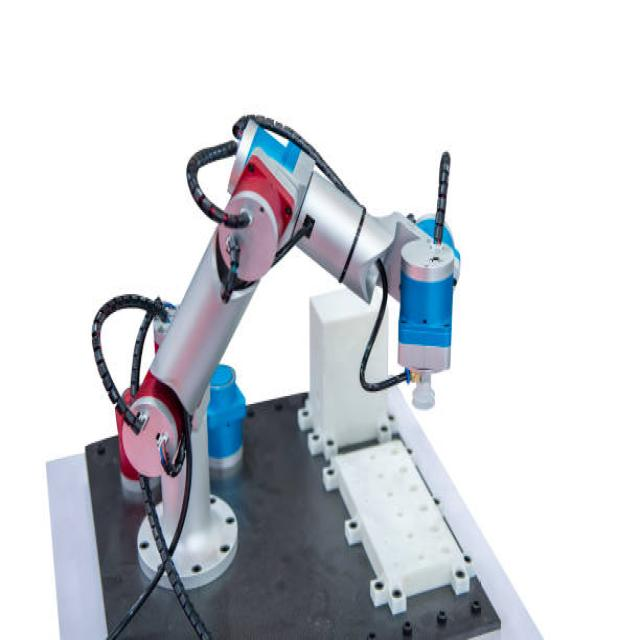Robotic-arm: (91, 102, 468, 602)
